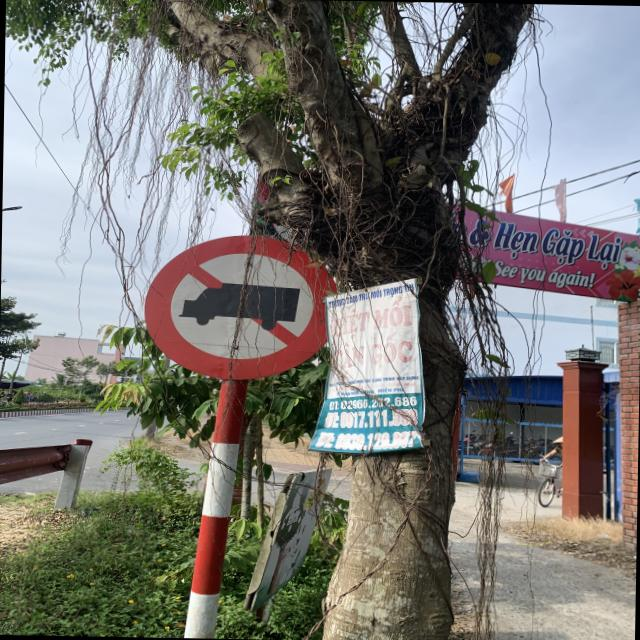Cam_Xe_Tai: (147, 232, 330, 375)
